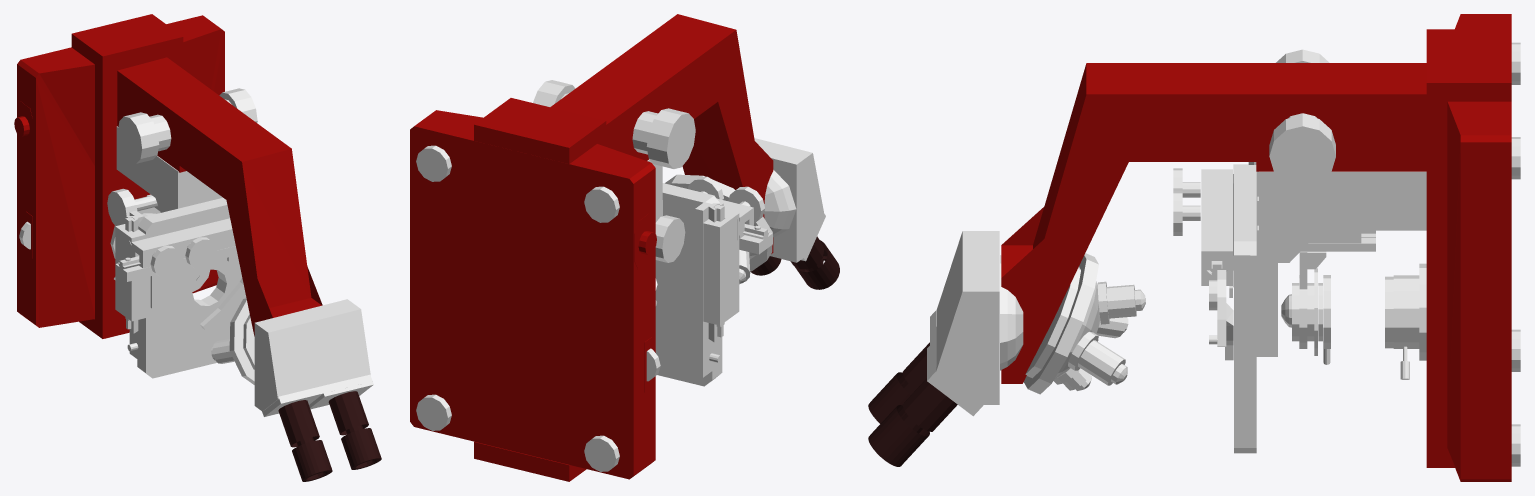
3 renders of one model, left to right at view 1: azimuth 30°, elevation 25°; view 2: azimuth 150°, elevation 25°; view 3: azimuth 270°, elevation 25°, orthographic. The views are drawn at different scales.
Visible parts, largest first — view 1: mikroskop; view 2: mikroskop; view 3: mikroskop.
Boxes of the visible parts, x1=… form: mikroskop: x1=14, y1=14, x2=381, y2=481; mikroskop: x1=410, y1=14, x2=839, y2=481; mikroskop: x1=868, y1=14, x2=1520, y2=481.
Size of the model in its own units: 7.33 by 10.16 by 15.35.
